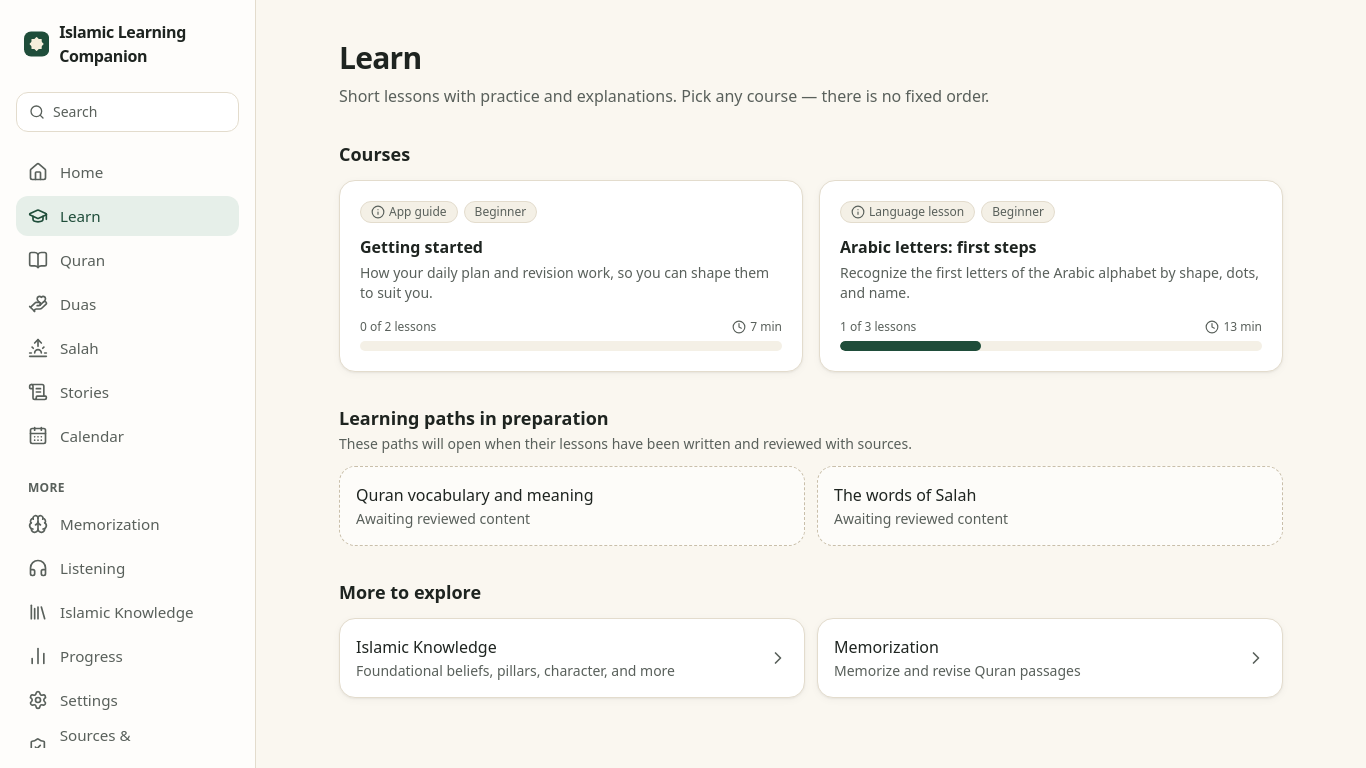
Test case: learn and course pages › lists published courses with progress and opens a course
Expected: the text "1 of 3 lessons" is shown, [840,319,916,335]
Step 1. Click the link "Arabic letters: first steps" → (1051, 276), box [819,180,1283,372]
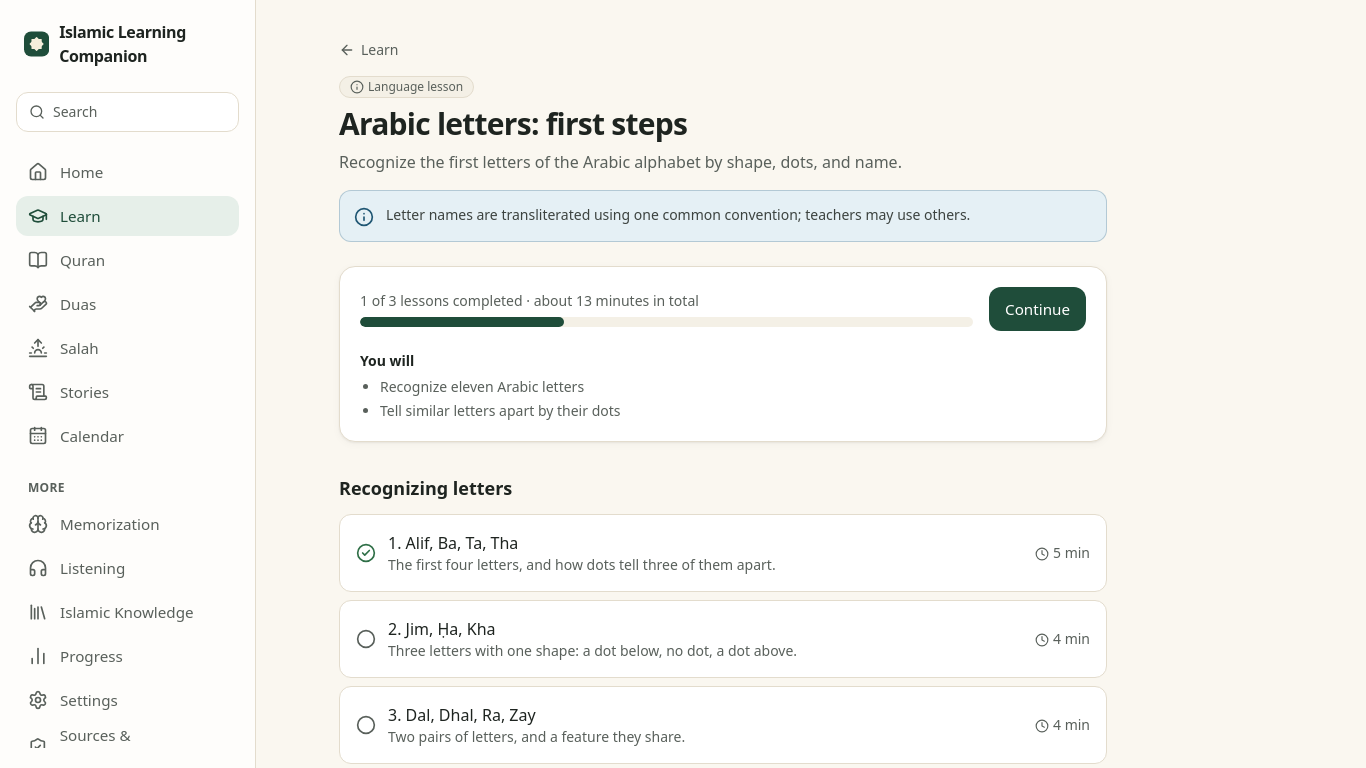
Expected: the heading "Arabic letters: first steps" is shown, [339,103,687,144]
Now the text "transliterated using one common convention" is shown, box [386,205,970,224]
